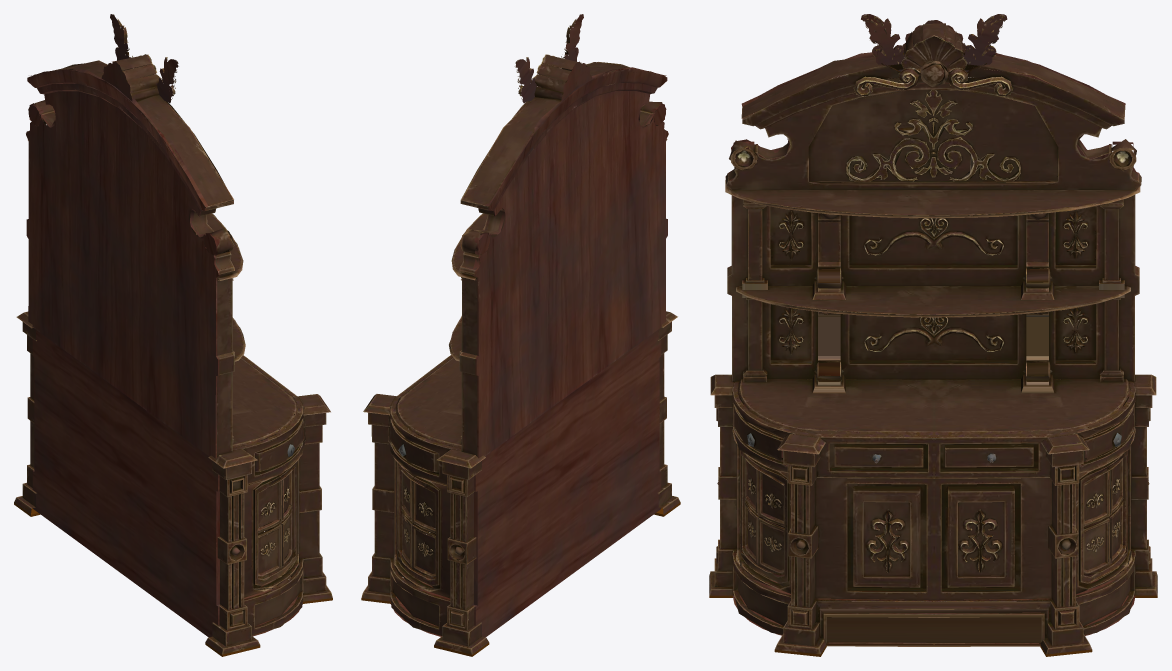
The model's file is vict_antique_wardrobe_free.glb.
The picture shows the model from 3 angles, left to right: view 1: azimuth 30°, elevation 25°; view 2: azimuth 150°, elevation 25°; view 3: azimuth 270°, elevation 25°; orthographic projection. The views are drawn at different scales.
Visible parts, largest first — view 1: _3_low_Cabinet_0; view 2: _3_low_Cabinet_0; view 3: _3_low_Cabinet_0.
Boxes of the visible parts, bbox=[...] form: _3_low_Cabinet_0: bbox=[14, 14, 332, 656]; _3_low_Cabinet_0: bbox=[361, 14, 680, 656]; _3_low_Cabinet_0: bbox=[709, 14, 1157, 656].
Size of the model in its own units: 0.6248 by 2.1 by 1.48.
Materials: 3 (2 with a texture image).
